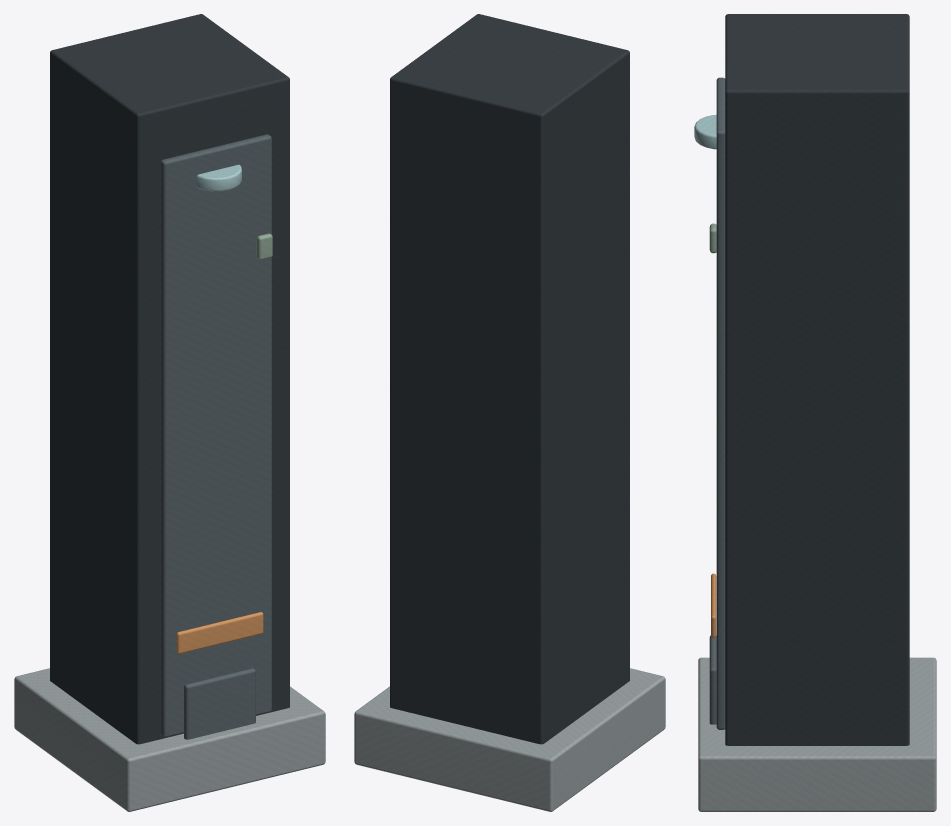
Rendered from SecurityPillar.fbx.
The picture shows the model from 3 angles, left to right: view 1: azimuth 30°, elevation 25°; view 2: azimuth 150°, elevation 25°; view 3: azimuth 270°, elevation 25°; orthographic projection. The views are drawn at different scales.
Parts seen in each view (by area): view 1: SecurityPillar_Mesh; view 2: SecurityPillar_Mesh; view 3: SecurityPillar_Mesh.
Part boxes in pixels (x1,y1,x2,y2): SecurityPillar_Mesh: (14,14,325,811); SecurityPillar_Mesh: (354,14,665,811); SecurityPillar_Mesh: (694,14,936,811).
Size of the model in its own units: 62 by 204 by 63.
6 materials, 6 textured.
